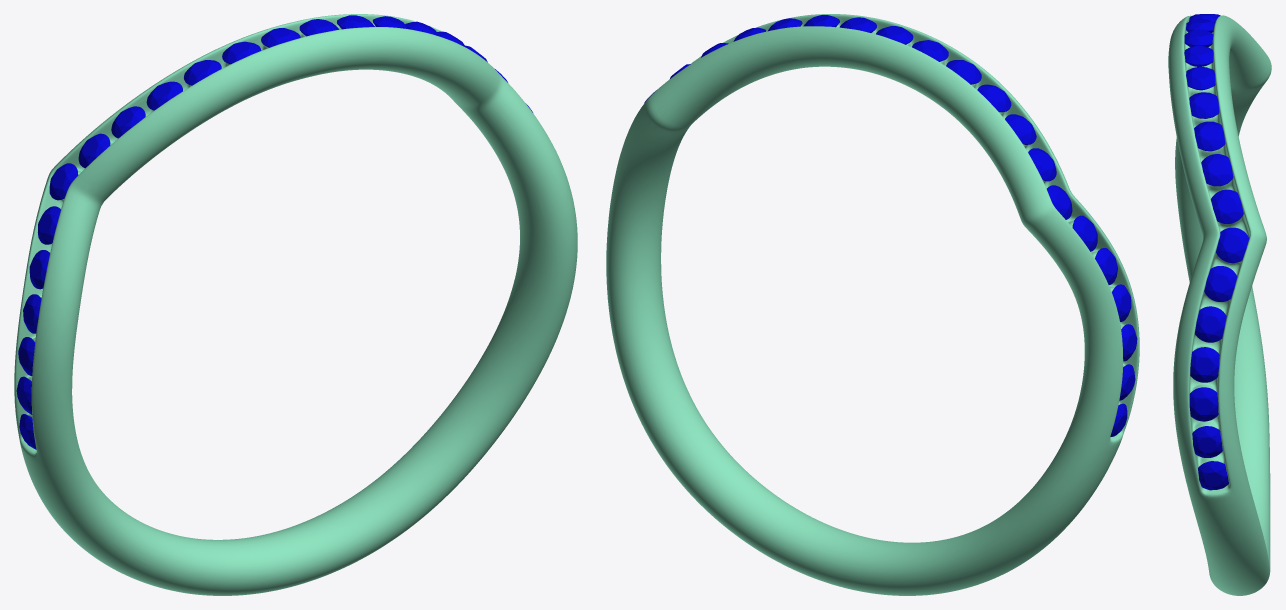
3 views of the same model, side by side, from view 1: azimuth 30°, elevation 25°; view 2: azimuth 150°, elevation 25°; view 3: azimuth 270°, elevation 25° (orthographic). The views are drawn at different scales.
Parts seen in each view (by area): view 1: Metal03; view 2: Metal03; view 3: Metal03, Diamond_Band.007, Diamond_Band.008, Diamond_Band.006, Diamond_Band.009, Diamond_Band.010, Diamond_Band.005, Diamond_Band.004, Diamond_Band.011, Diamond_Band.003, Diamond_Band.012, Diamond_Band.002 (+5 smaller).
Part boxes in pixels (x1,y1,x2,y2): Metal03: (14, 14, 577, 595); Metal03: (606, 14, 1139, 595); Metal03: (1168, 15, 1271, 595); Diamond_Band.007: (1204, 266, 1237, 301); Diamond_Band.008: (1194, 306, 1226, 342); Diamond_Band.006: (1216, 227, 1249, 263); Diamond_Band.009: (1190, 347, 1219, 382); Diamond_Band.010: (1189, 387, 1218, 421); Diamond_Band.005: (1211, 189, 1243, 223); Diamond_Band.004: (1201, 154, 1233, 186); Diamond_Band.011: (1192, 426, 1222, 457); Diamond_Band.003: (1194, 121, 1225, 151); Diamond_Band.012: (1198, 461, 1228, 490); Diamond_Band.002: (1189, 92, 1219, 118).
Bounding box in the file's own units: 20.7 × 20.8 × 3.69.
